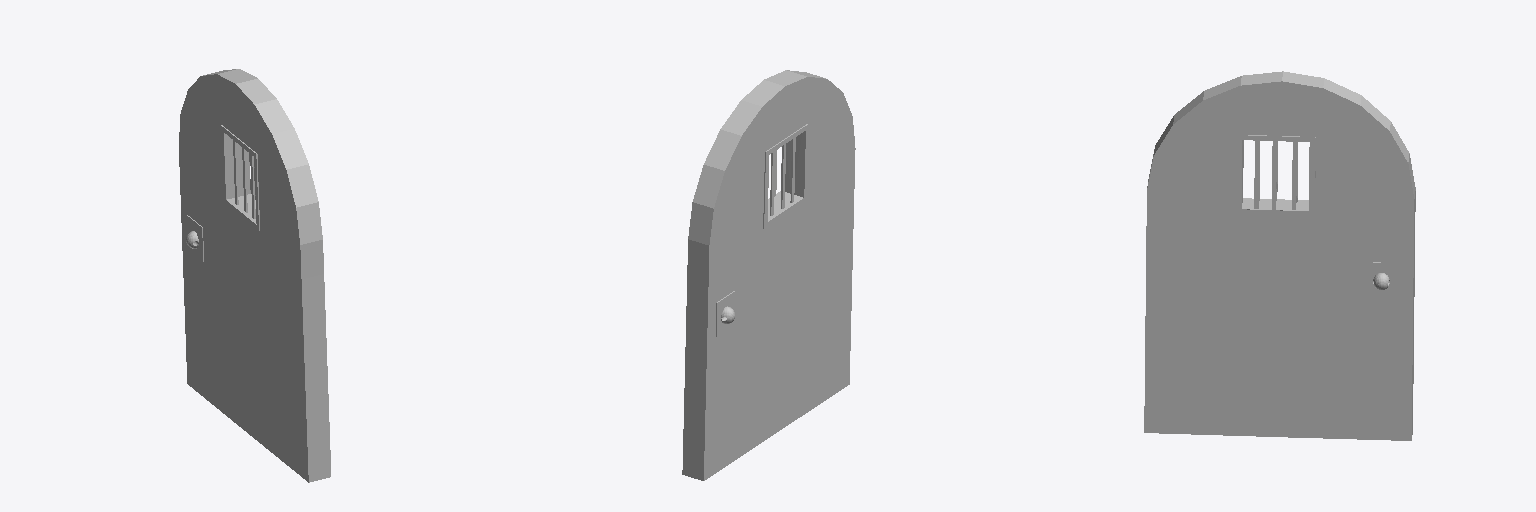
Rendered from door_arch2.obj.
3 views of the same model, side by side, from view 1: azimuth 30°, elevation 25°; view 2: azimuth 150°, elevation 25°; view 3: azimuth 270°, elevation 25° (orthographic).
Visible parts, largest first — view 1: Door_arch_Door_B_1.001; view 2: Door_arch_Door_B_1.001; view 3: Door_arch_Door_B_1.001.
Part boxes in pixels (x1,y1,x2,y2): Door_arch_Door_B_1.001: (179,69,330,482); Door_arch_Door_B_1.001: (682,70,855,480); Door_arch_Door_B_1.001: (1144,71,1415,440).
Size of the model in its own units: 68.03 by 511 by 357.